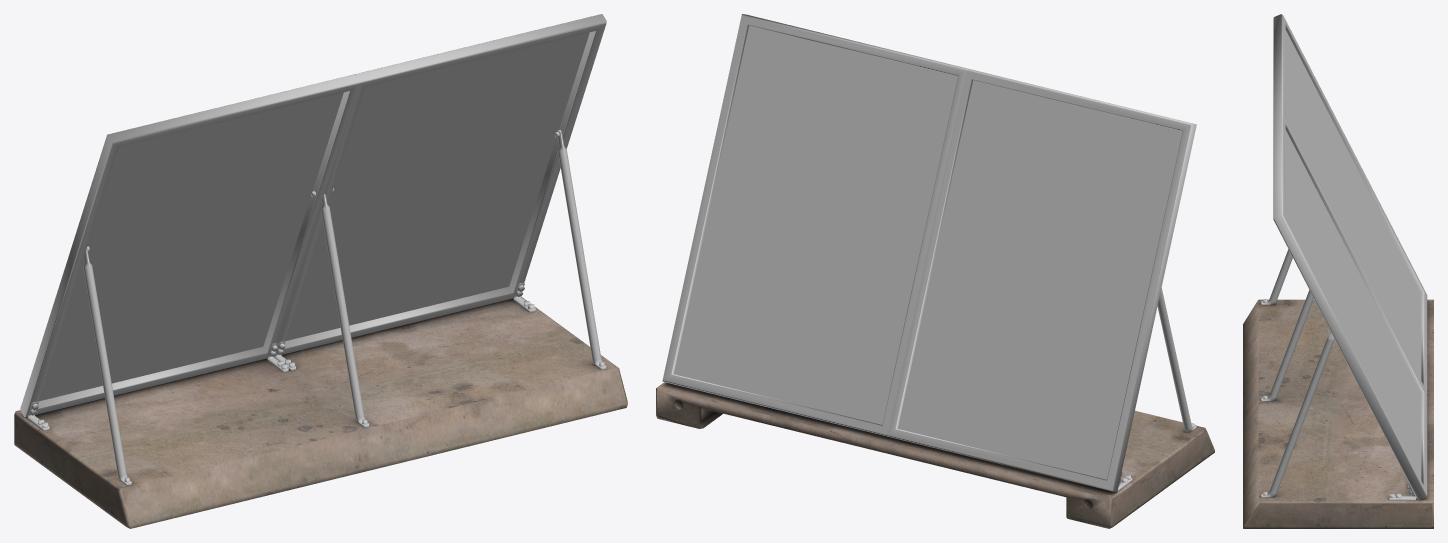
File: zaunblock_01.fbx
3 renders of one model, left to right at view 1: azimuth 30°, elevation 25°; view 2: azimuth 150°, elevation 25°; view 3: azimuth 270°, elevation 25°, orthographic. The views are drawn at different scales.
Visible parts, largest first — view 1: Mesh; view 2: Mesh; view 3: Mesh.
Boxes of the visible parts, box(x1,y1,x2,y2) form: Mesh: box(14, 14, 627, 528); Mesh: box(656, 14, 1214, 528); Mesh: box(1243, 14, 1433, 528).
Bounding box in the file's own units: 284 × 204 × 113.
